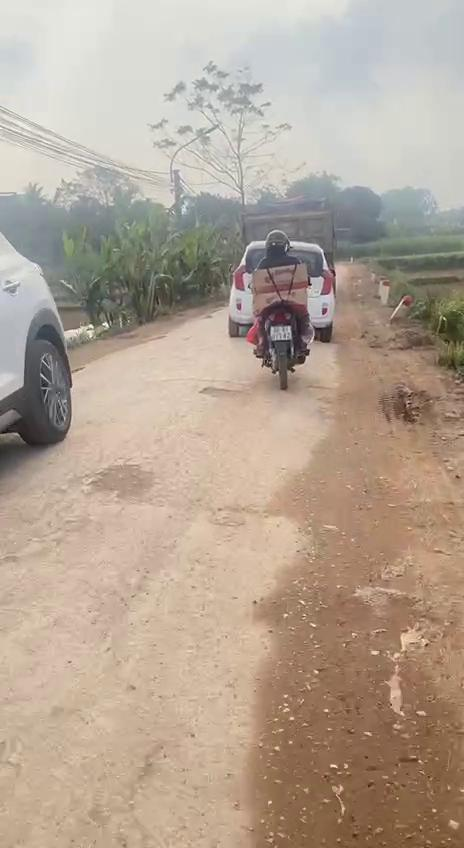pothole: (89, 458, 159, 510), (199, 384, 249, 406)
